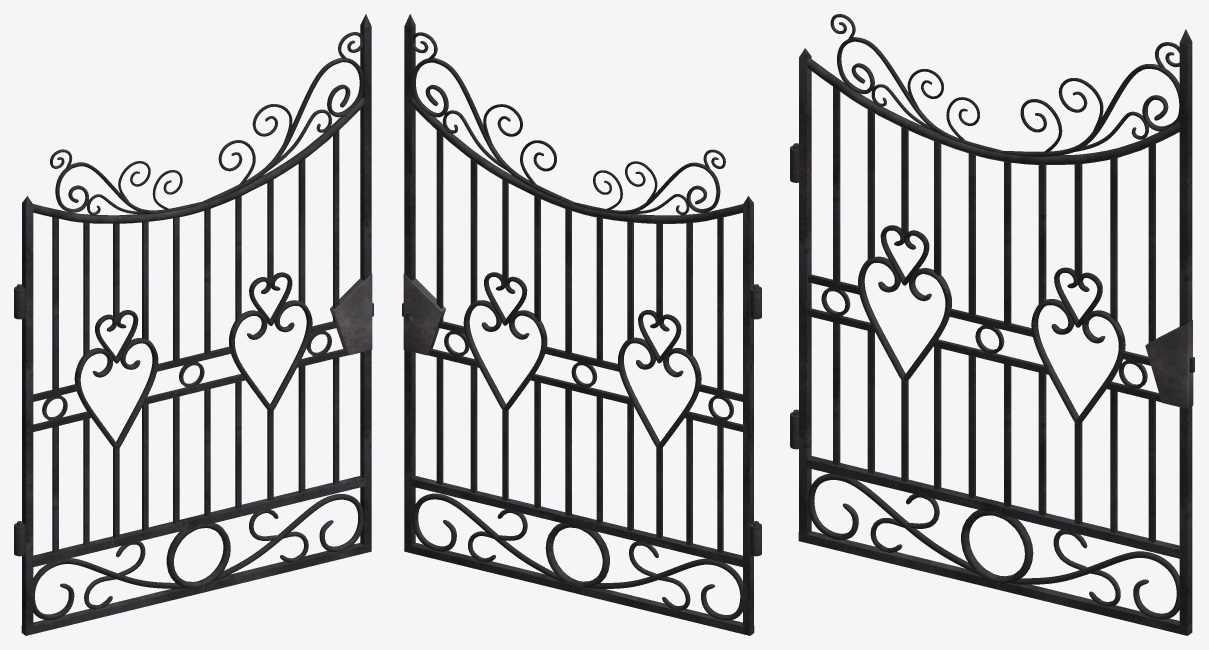
File: PuertaDer.obj
3 views of the same model, side by side, from view 1: azimuth 30°, elevation 25°; view 2: azimuth 150°, elevation 25°; view 3: azimuth 330°, elevation 25° (orthographic). The views are drawn at different scales.
Parts seen in each view (by area): view 1: PuertaDer; view 2: PuertaDer; view 3: PuertaDer.
Boxes of the visible parts, x1,y1,x2,y2 form: PuertaDer: [14, 14, 373, 635]; PuertaDer: [402, 14, 761, 635]; PuertaDer: [790, 14, 1194, 635].
Bounding box in the file's own units: 7.65 × 10.95 × 0.2172.
